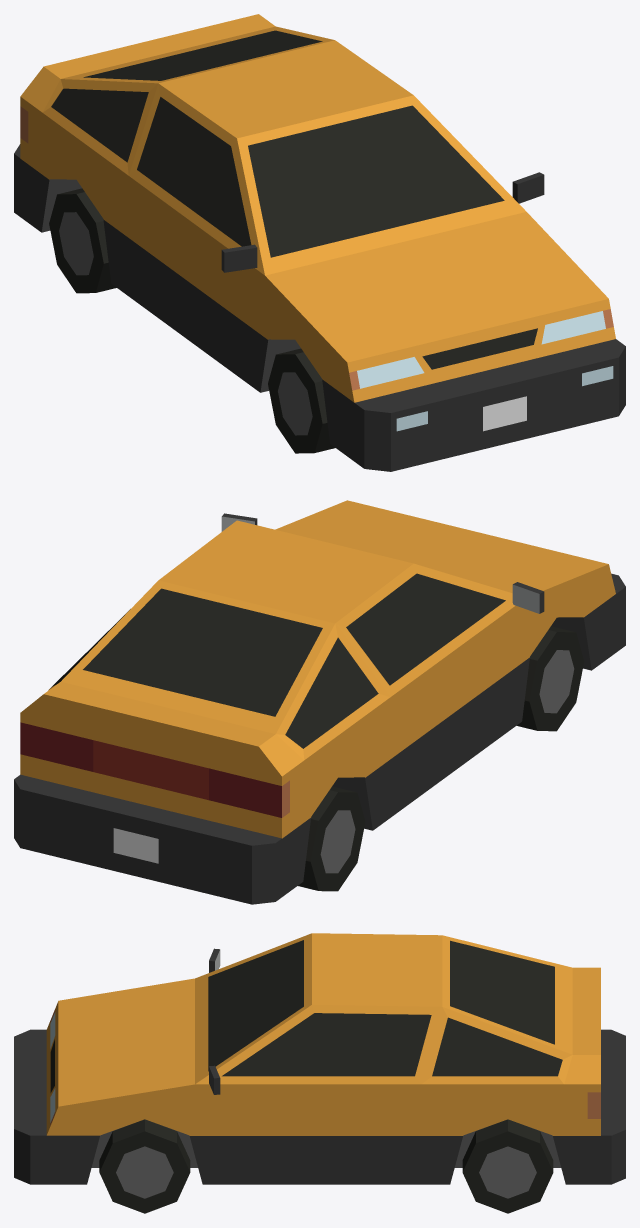
The model's file is Veh_Coupe_01_Yellow.obj.
3 renders of one model, top to bottom at view 1: azimuth 30°, elevation 25°; view 2: azimuth 150°, elevation 25°; view 3: azimuth 270°, elevation 25°, orthographic. The views are drawn at different scales.
Bounding box in the file's own units: 1.18 × 0.8117 × 2.35.
